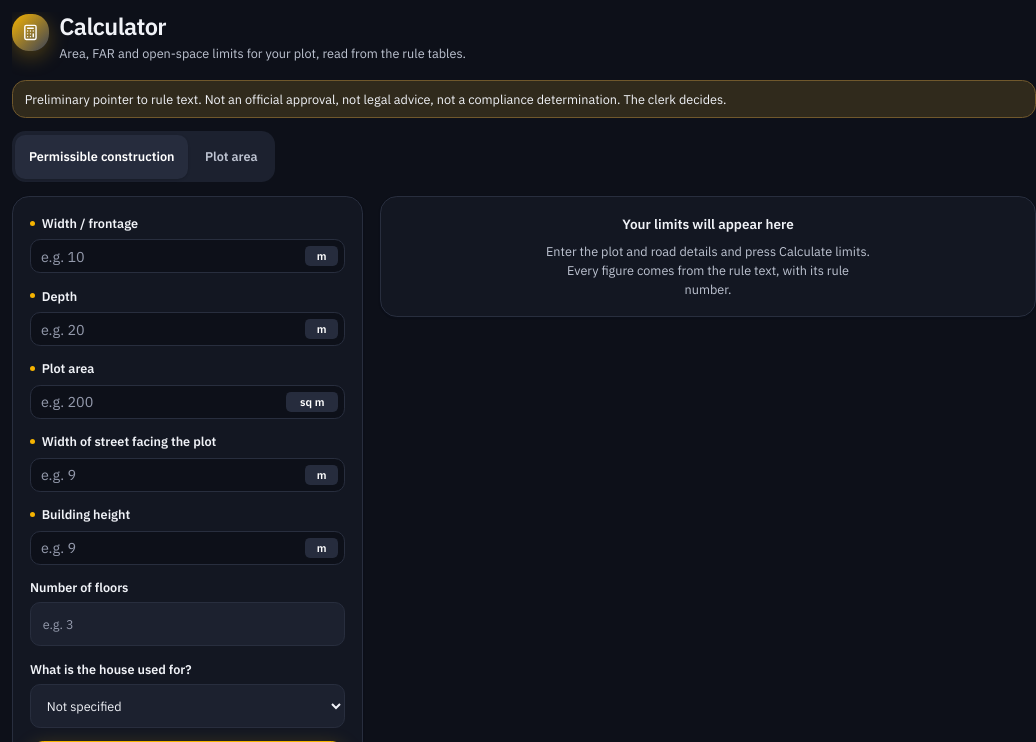
Calculator › shows the server trace (200 sqm) with the general-arithmetic chip
Step 1. Click the tab "Plot area" → coordinates (231, 157), box [191,135,271,179]
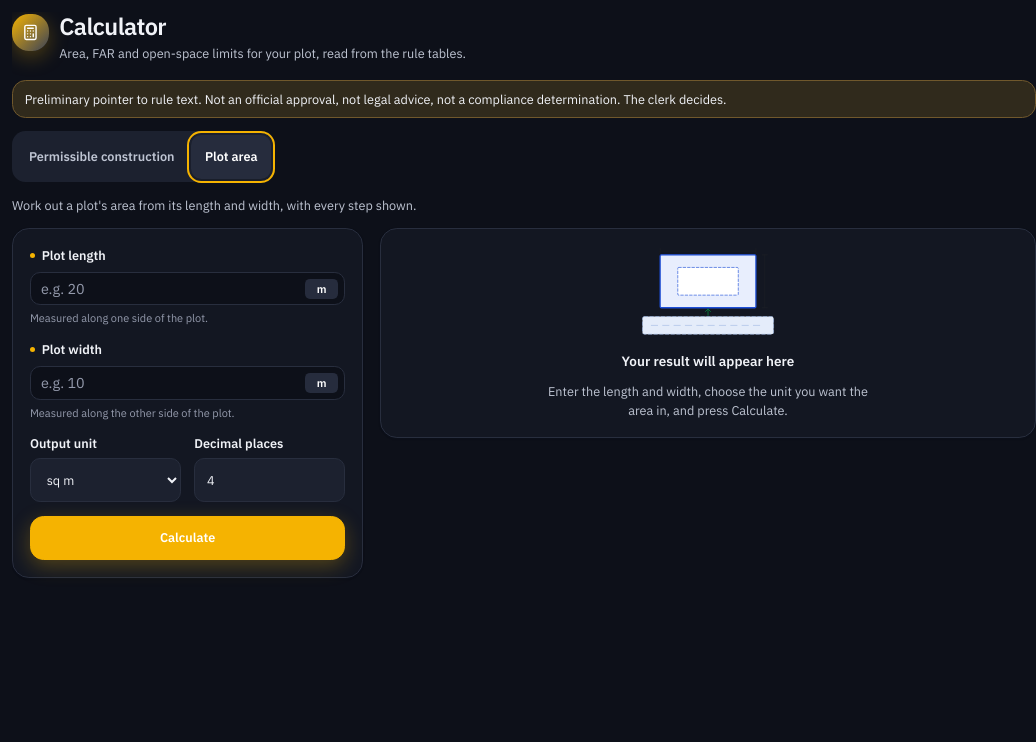
Step 2. Type "20" into the field labelled "Plot length" → coordinates (188, 289), box [30,272,345,306]
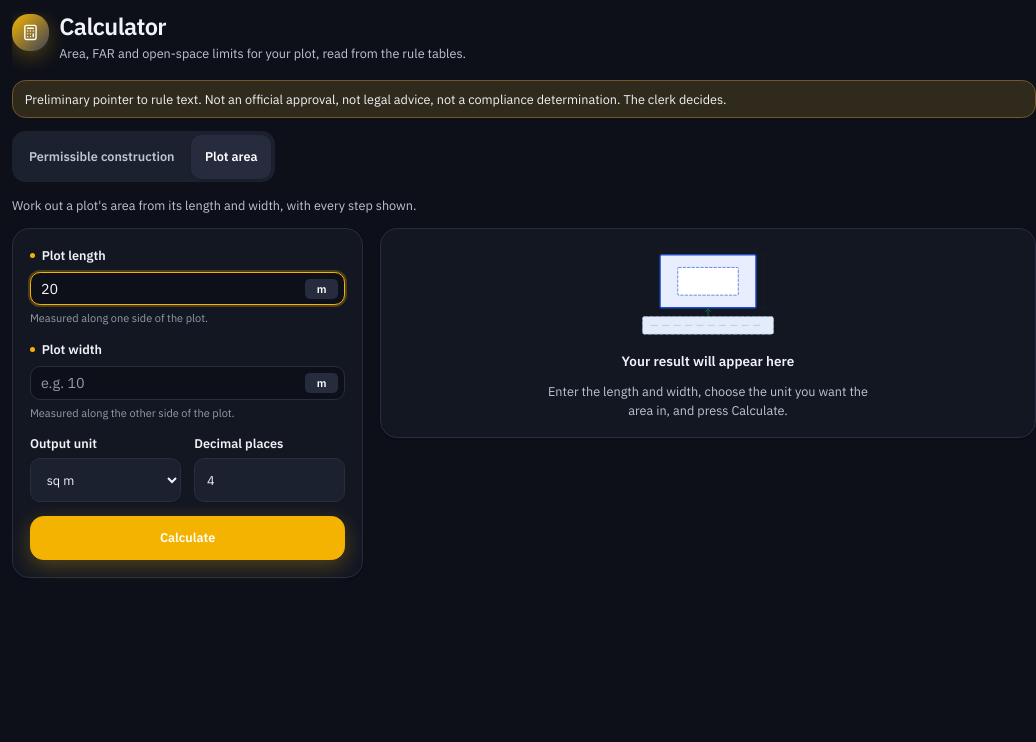
Step 3. Type "10" into the field labelled "Plot width" → coordinates (188, 383), box [30,366,345,400]
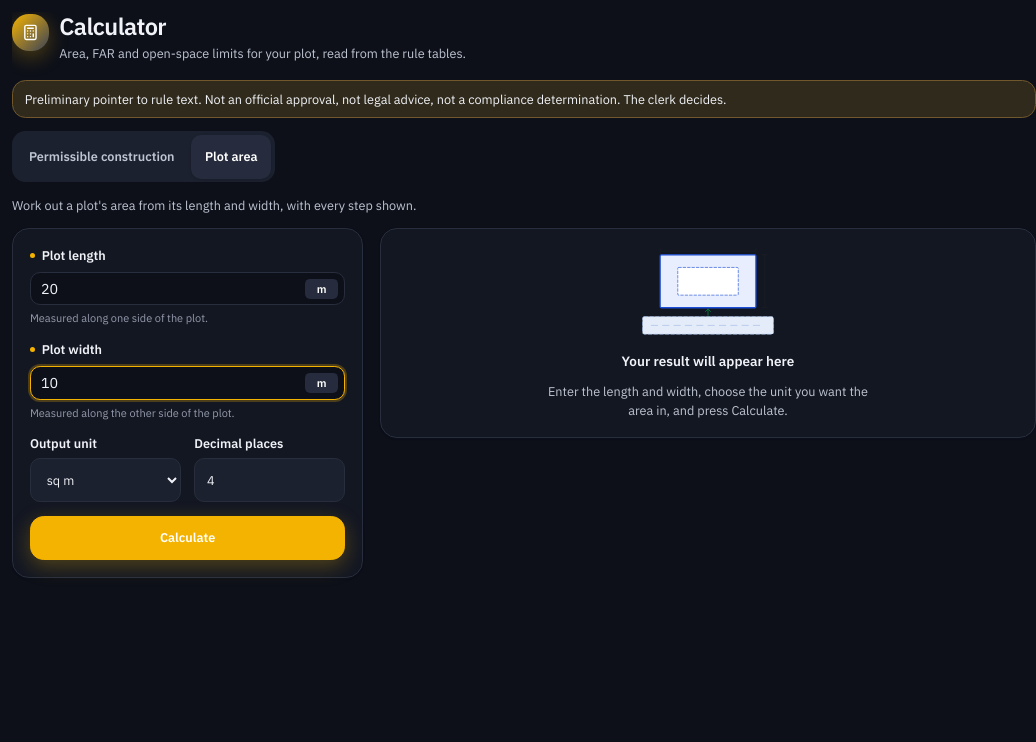
Step 4. Click the button "Calculate" → coordinates (188, 538), box [30,516,345,560]
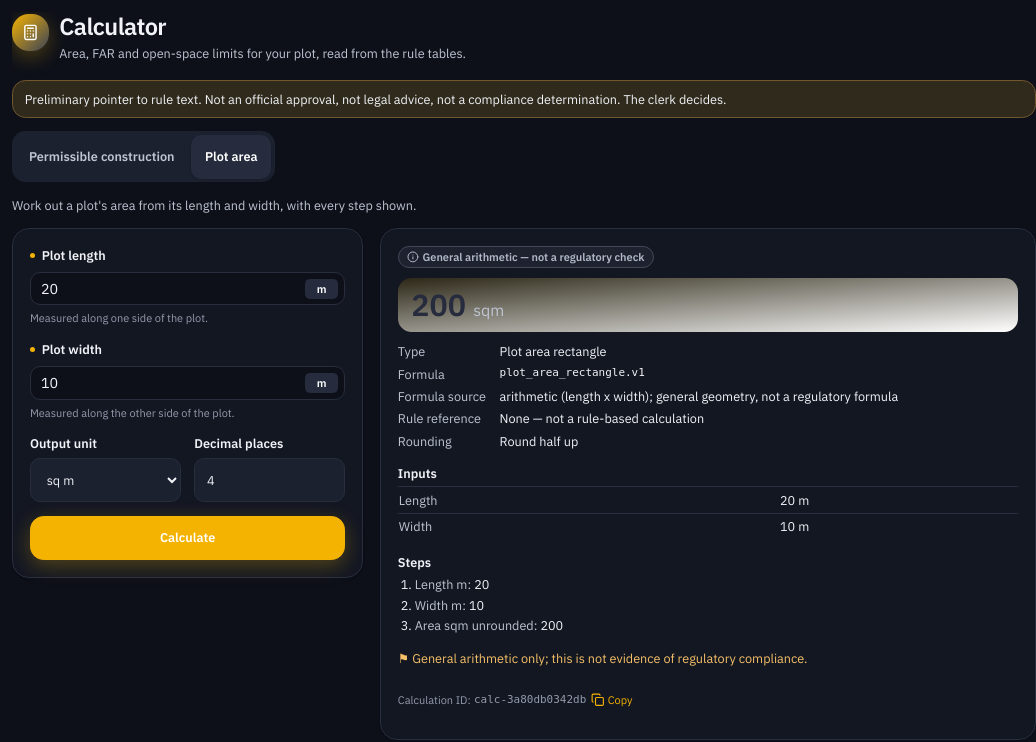
Expected: the text "General arithmetic — not a regulatory check" is shown, [422,249,644,265]
Expected: the text "200 sqm" is shown, [398,278,1018,332]
Expected: the text "plot_area_rectangle.v1" is shown, [500,366,645,379]
